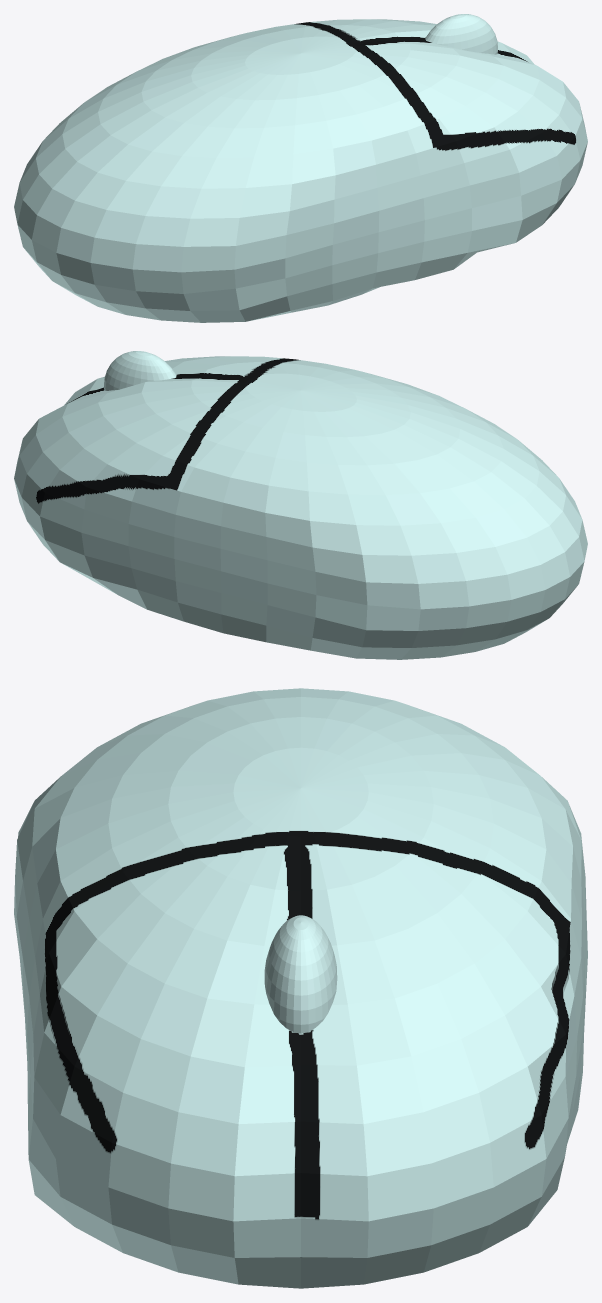
The model's file is Security-mouse.glb.
3 views of the same model, one above another, from view 1: azimuth 30°, elevation 25°; view 2: azimuth 150°, elevation 25°; view 3: azimuth 270°, elevation 25° (orthographic). The views are drawn at different scales.
Visible parts, largest first — view 1: Sphere.001; view 2: Sphere.001; view 3: Sphere.001.
Boxes of the visible parts, x1,y1,x2,y2 form: Sphere.001: (14,14,587,322); Sphere.001: (14,351,587,659); Sphere.001: (14,688,587,1288).
Size of the model in its own units: 1.39 by 0.4981 by 0.7447.
Materials: 1 (1 with a texture image).
